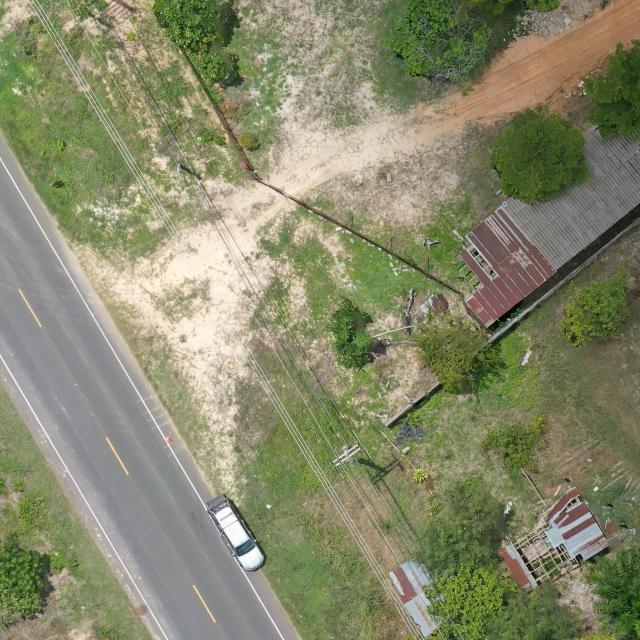Tree: (389, 0, 496, 106), (487, 101, 592, 208), (412, 477, 510, 580), (414, 307, 495, 398), (430, 564, 522, 640), (559, 260, 633, 350), (579, 36, 640, 144), (484, 581, 586, 640), (579, 543, 640, 640), (0, 531, 54, 632), (150, 0, 241, 58), (324, 295, 378, 372), (197, 46, 244, 90)
